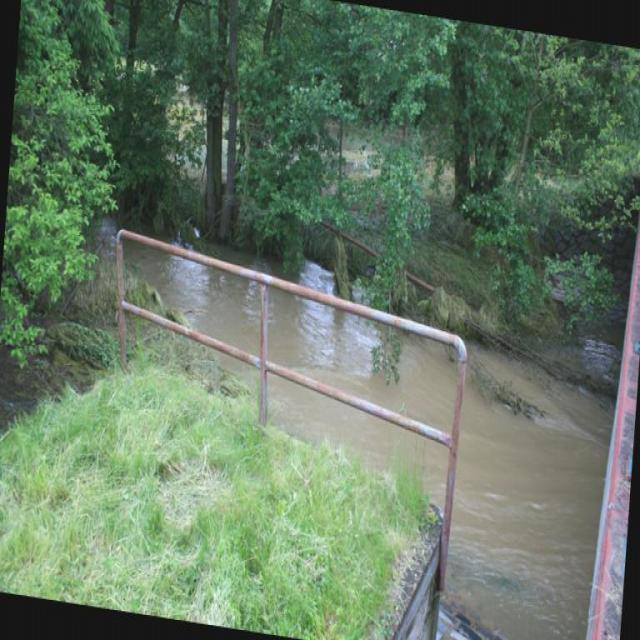flood: (102, 224, 620, 639)
